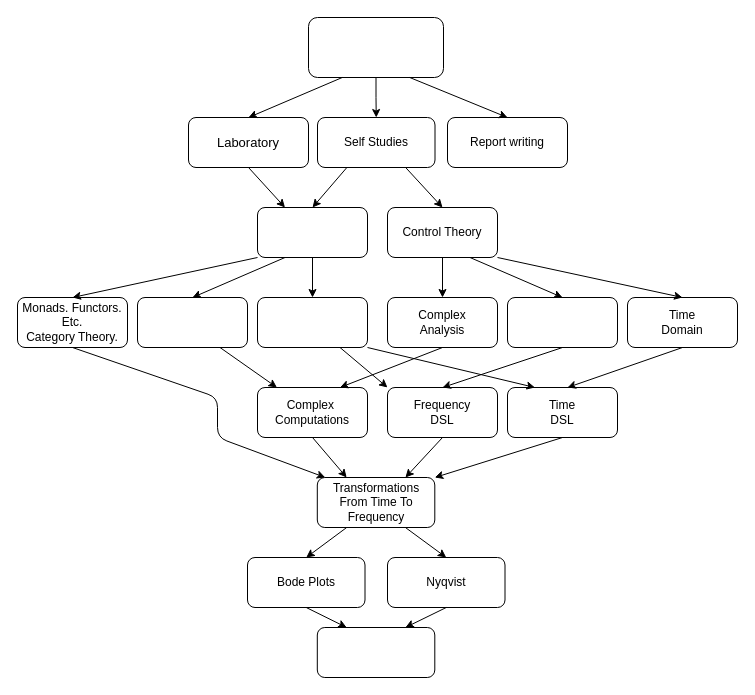
Image size: 755x695. Some labels were removed from this diagram. Here are the shapes that lost their labels. From the top down, the centre of each, then its label:
point (376, 47): DSLOfControlTheory
point (312, 232): Haskell
point (192, 322): Haskell Classes (Sub categories)
point (312, 322): Domain Specific Languages
point (562, 322): Frequency Domain
point (375, 652): Regulator Design
